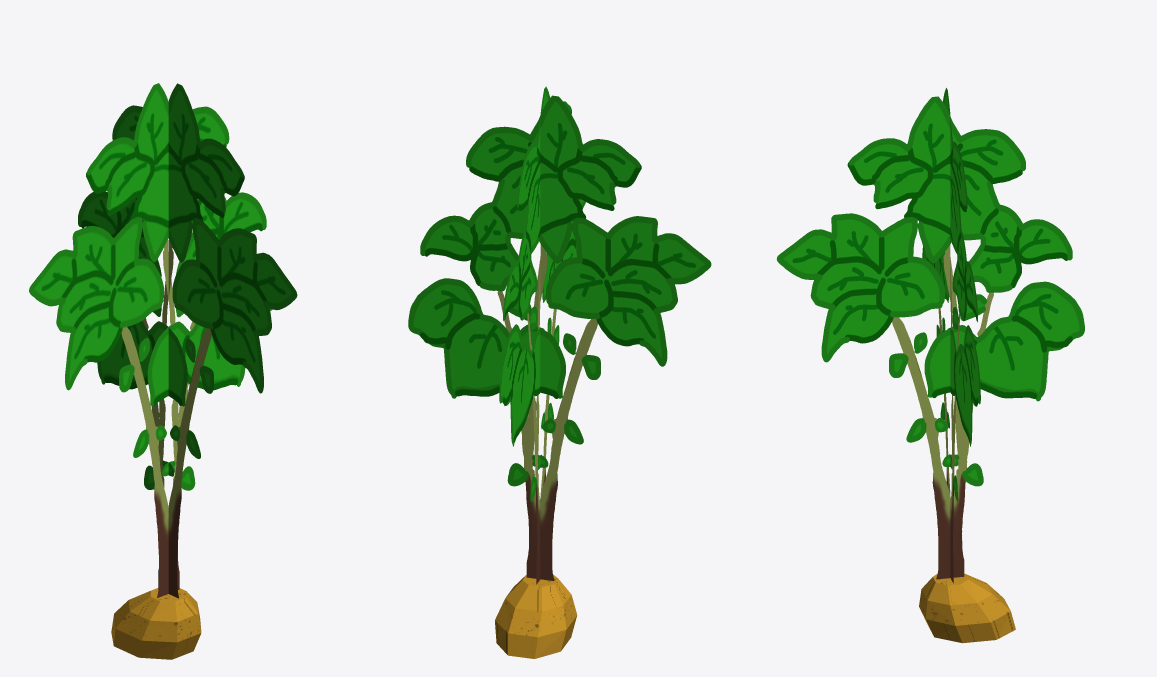
Rendered from PapaF3.glb.
The picture shows the model from 3 angles, left to right: view 1: azimuth 30°, elevation 25°; view 2: azimuth 150°, elevation 25°; view 3: azimuth 270°, elevation 25°; orthographic projection. The views are drawn at different scales.
Visible parts, largest first — view 1: PapaF3; view 2: PapaF3; view 3: PapaF3.
Boxes of the visible parts, <box> form: PapaF3: <box>29,83,297,659</box>; PapaF3: <box>408,86,711,658</box>; PapaF3: <box>776,88,1084,643</box>.
Size of the model in its own units: 0.749 by 1.15 by 0.749.
1 material, 1 textured.
